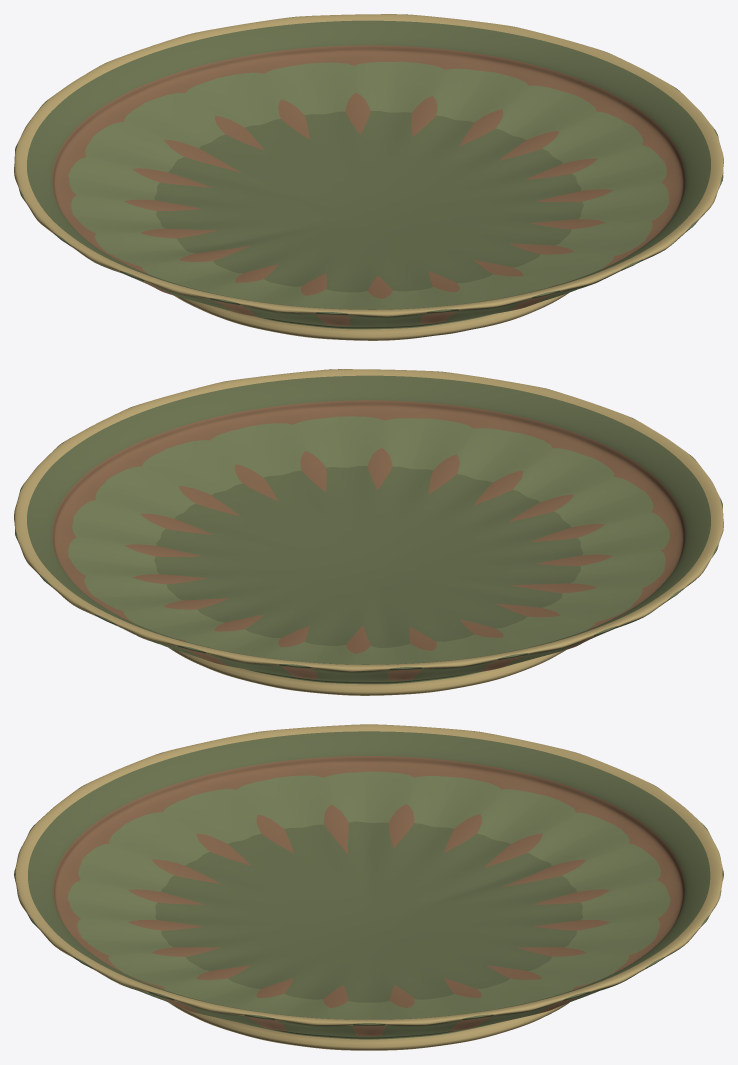
Rendered from TEA_Time_Fat.fbx.
The picture shows the model from 3 angles, top to bottom: view 1: azimuth 30°, elevation 25°; view 2: azimuth 150°, elevation 25°; view 3: azimuth 270°, elevation 25°; orthographic projection.
Visible parts, largest first — view 1: pCylinder1; view 2: pCylinder1; view 3: pCylinder1.
Boxes of the visible parts, x1,y1,x2,y2 form: pCylinder1: (14, 14, 723, 340); pCylinder1: (14, 369, 723, 695); pCylinder1: (14, 724, 723, 1050).
Size of the model in its own units: 1.52 by 0.1921 by 1.52.
